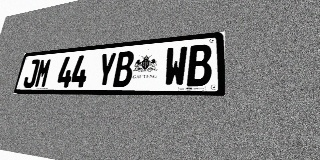4: (56, 56, 76, 88), (70, 55, 90, 87)
B: (187, 44, 212, 86), (113, 51, 135, 87)
J: (22, 59, 40, 88)
M: (34, 58, 53, 88)
W: (163, 46, 188, 87)
Y: (96, 52, 117, 87)
